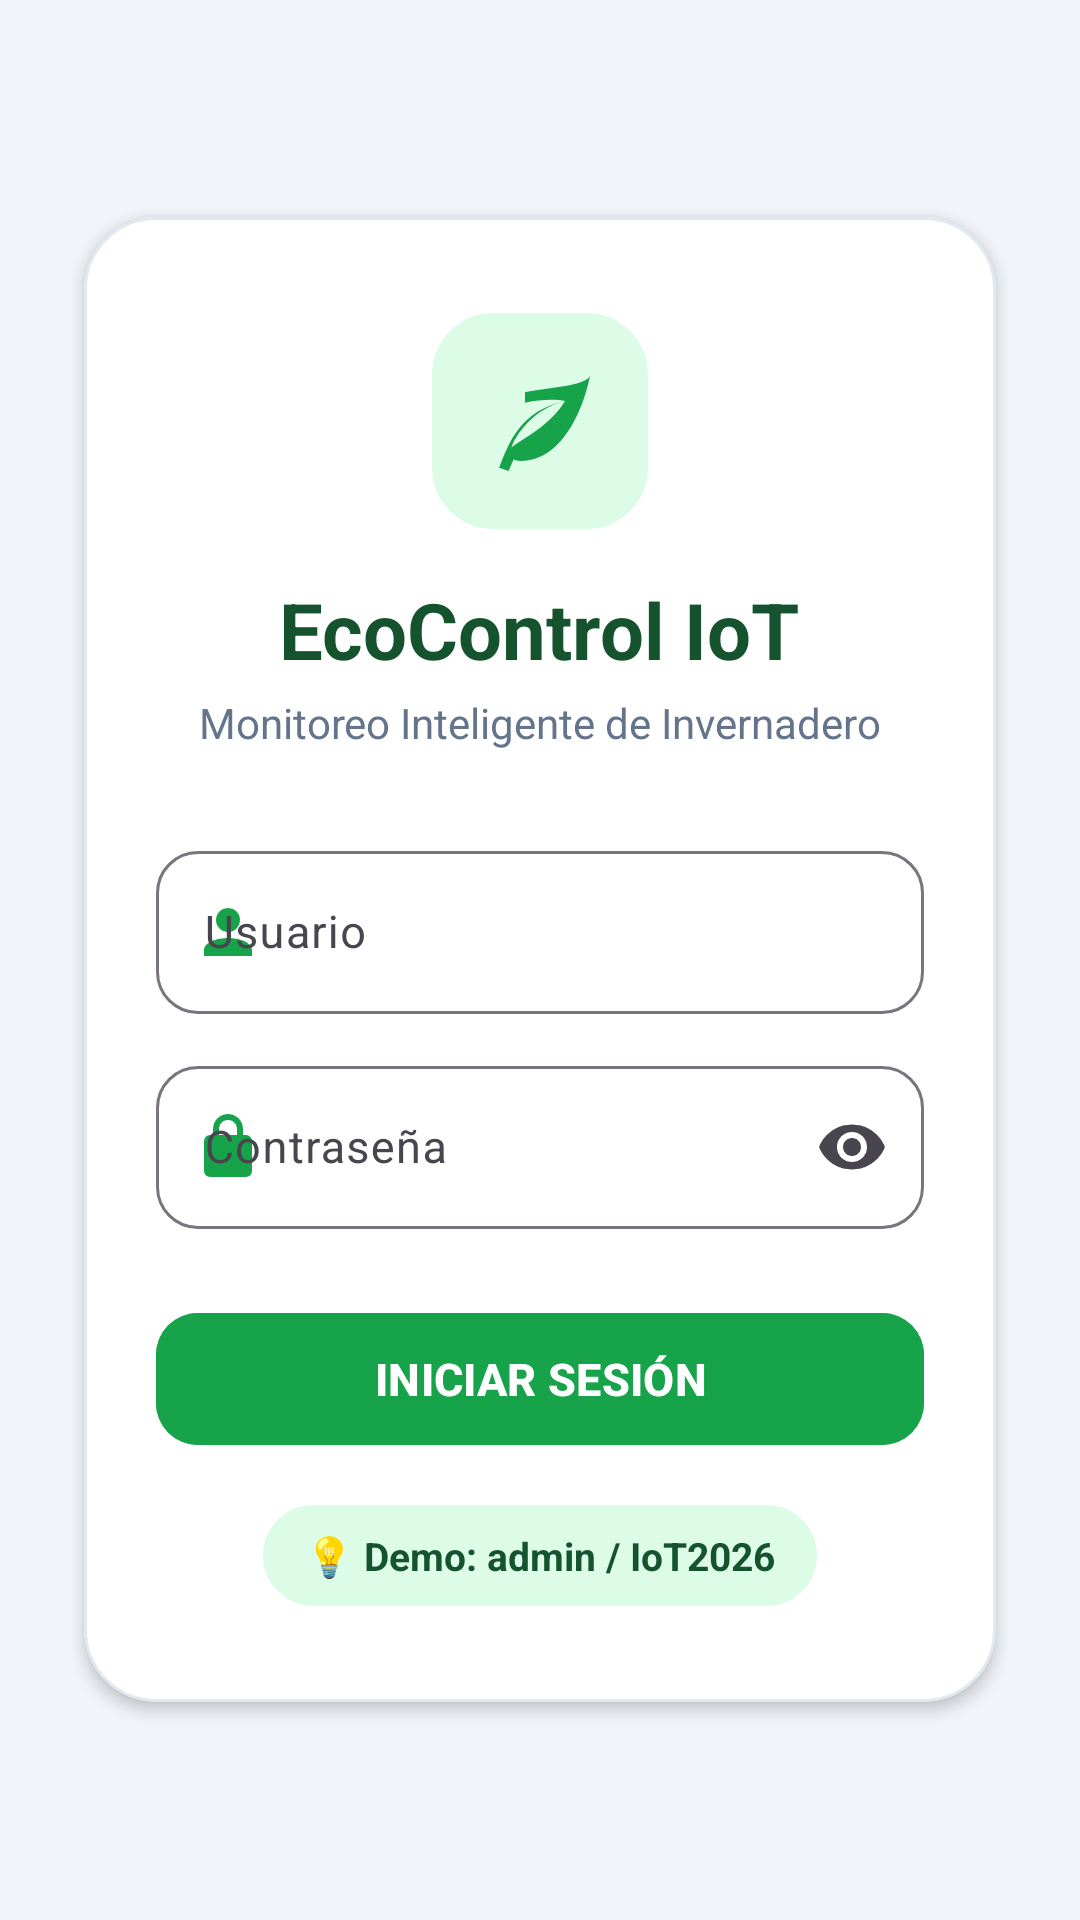

Named icons in this screenshot (1080 × 1920) and their bounding boxes, detection(x1, y1, x2, y2):
eco leaf: detection(499, 376, 590, 471)
